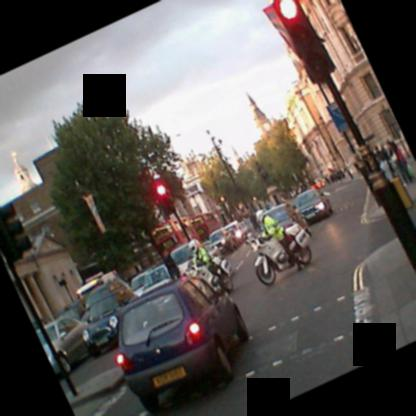handbag: (282, 234, 297, 251), (407, 163, 416, 178), (387, 160, 395, 173)
